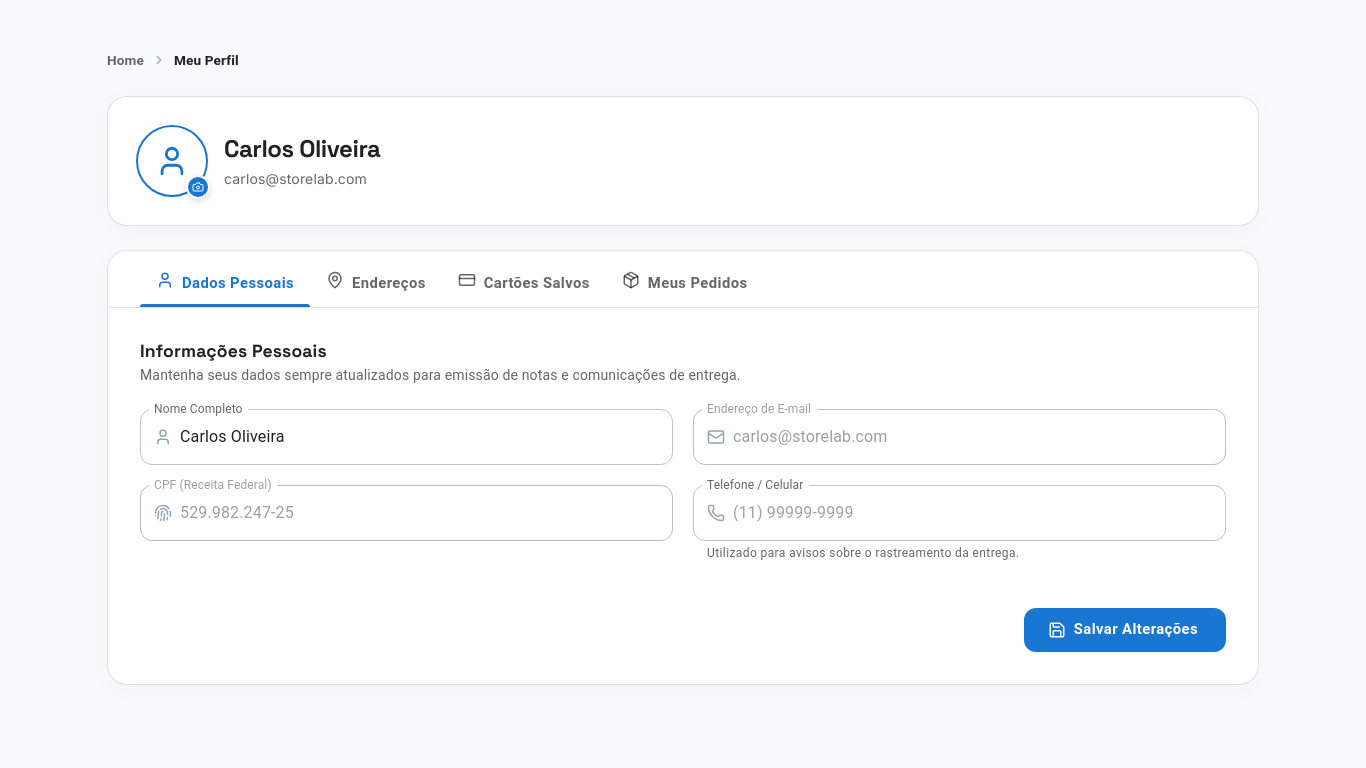
Test: ProfilePage - Expansão do Perfil e Abas Modulares › deve alternar entre as abas ao clicar
The width and height of the screenshot is (1366, 768).
Expected: the heading "Carlos Oliveira" is shown, [224,134,380,166]
Click the tab "Endereços".
click(376, 283)  # box [310,259,442,307]
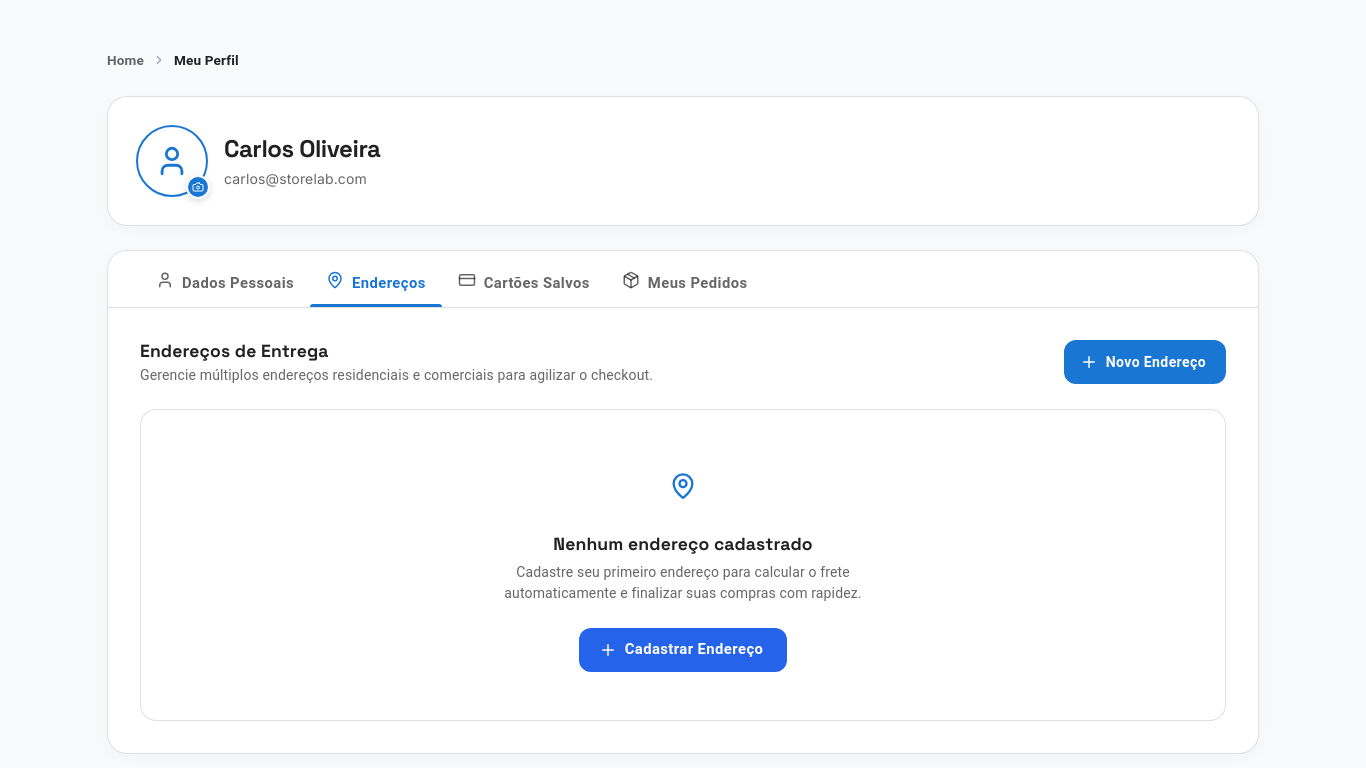
Expected: the heading "Endereços de Entrega" is shown, [140,340,329,362]
Expected: the button "Novo Endereço" is shown, [1064,340,1226,384]
Click the tab "Meus Pedidos".
click(685, 283)  # box [606,259,764,307]
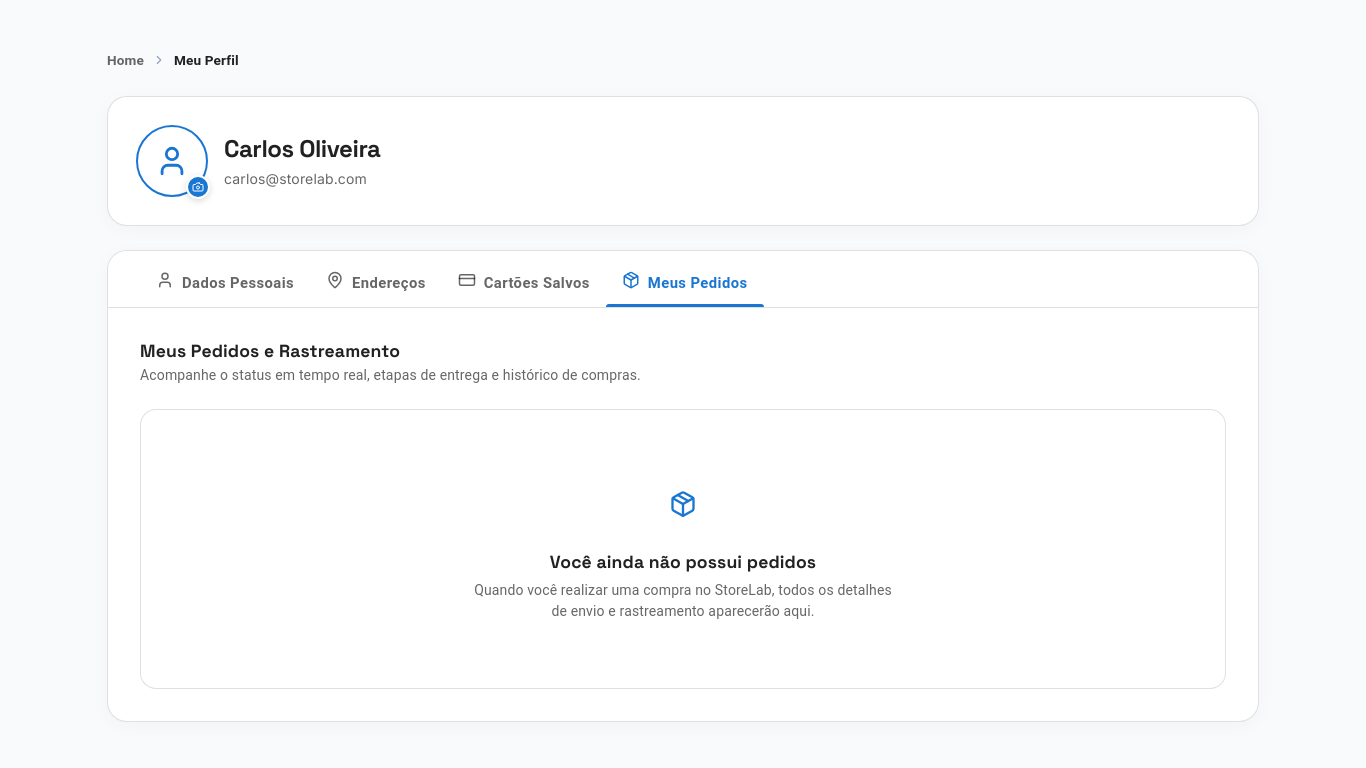
Expected: the heading "Meus Pedidos e Rastreamento" is shown, [140,340,400,362]
